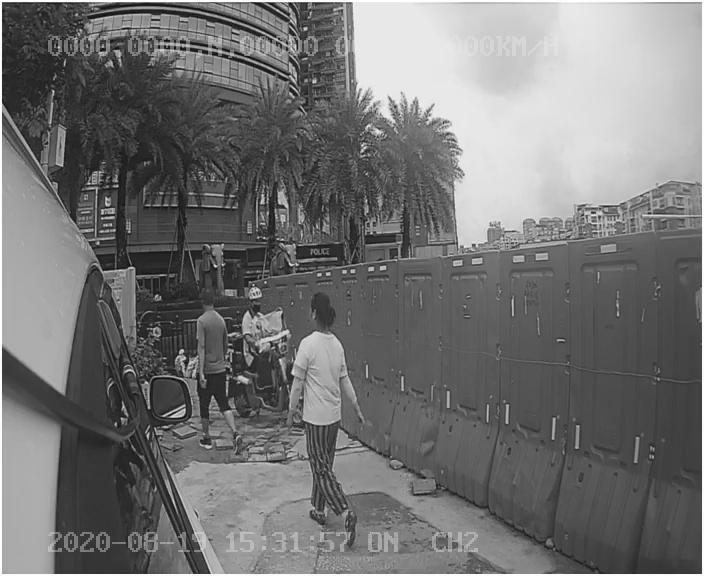person: (275, 292, 386, 515), (183, 295, 254, 457)
